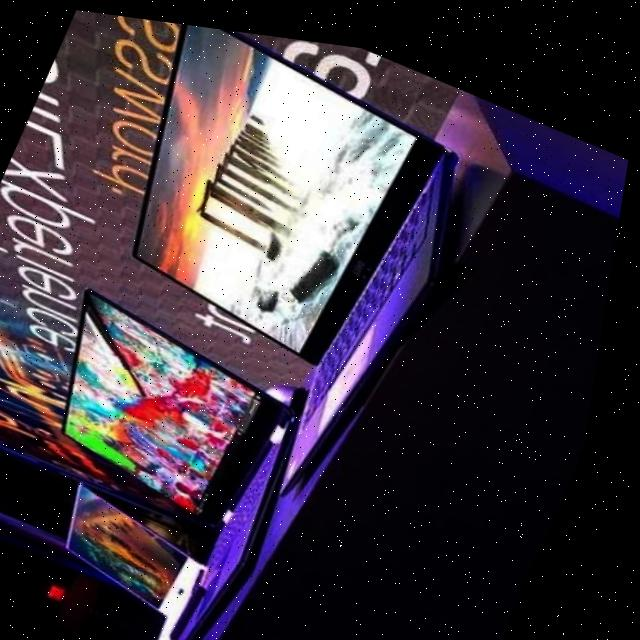laptop: (11, 7, 533, 511), (15, 461, 297, 640)
